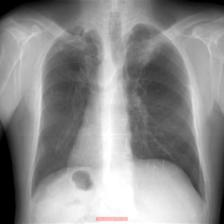tuberculosis: (27, 21, 212, 210)
